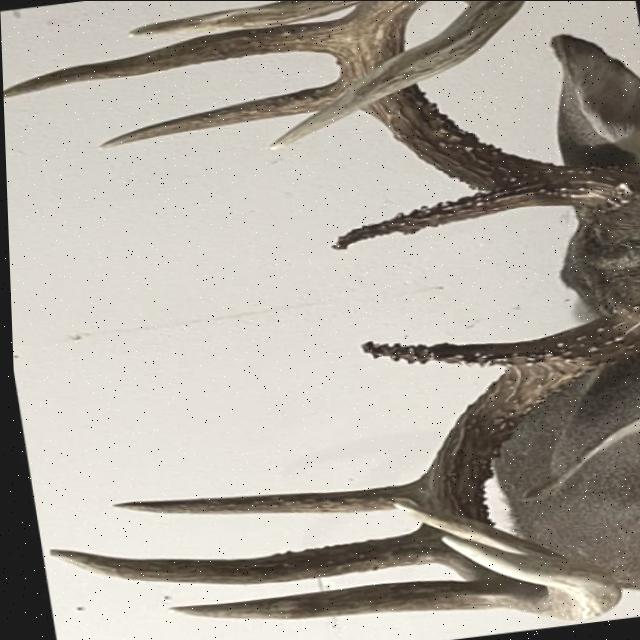L-G1: (355, 336, 544, 367)
L-G2: (108, 480, 415, 513)
L-G3: (44, 525, 441, 584)
L-G4: (161, 579, 499, 618)
R-G1: (327, 189, 523, 250)
R-G2: (96, 75, 342, 149)
R-G3: (3, 15, 347, 99)
R-G4: (126, 0, 369, 35)
